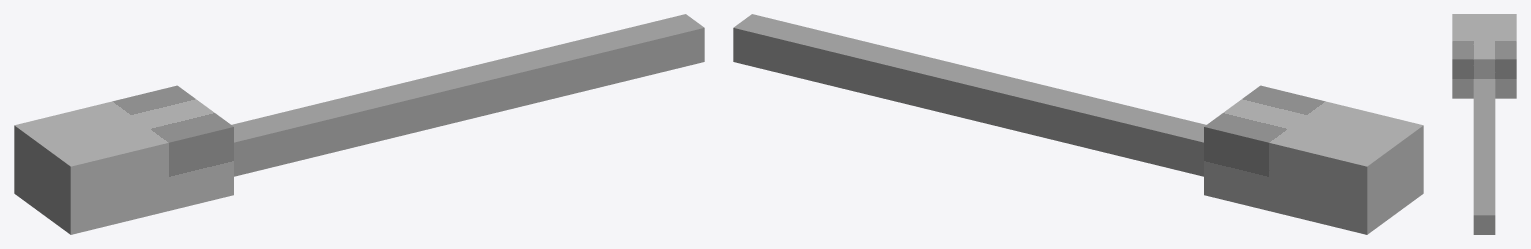
Rendered from mouse.fbx.
3 renders of one model, left to right at view 1: azimuth 30°, elevation 25°; view 2: azimuth 150°, elevation 25°; view 3: azimuth 270°, elevation 25°, orthographic. The views are drawn at different scales.
Parts seen in each view (by area): view 1: mouse; view 2: mouse; view 3: mouse.
Boxes of the visible parts, x1,y1,x2,y2 form: mouse: (14,14,704,234); mouse: (733,14,1423,234); mouse: (1452,14,1516,234).
Bounding box in the file's own units: 20 × 2 × 3.
